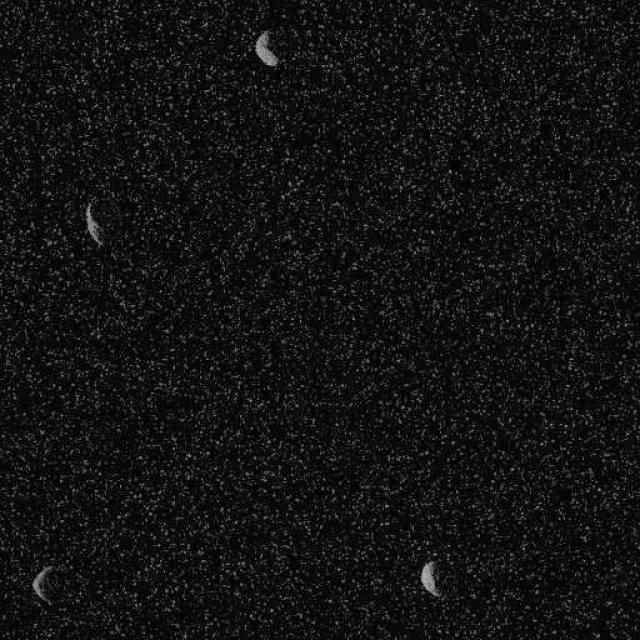D2: (32, 564, 58, 605), (254, 28, 278, 68), (84, 200, 104, 248), (419, 560, 441, 598)
